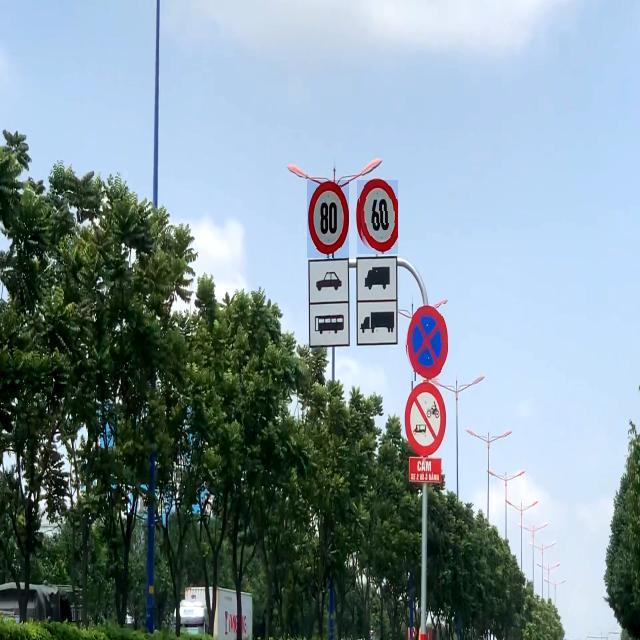P-127: (307, 180, 349, 258), (357, 180, 398, 254)
P-130: (405, 304, 448, 381)
